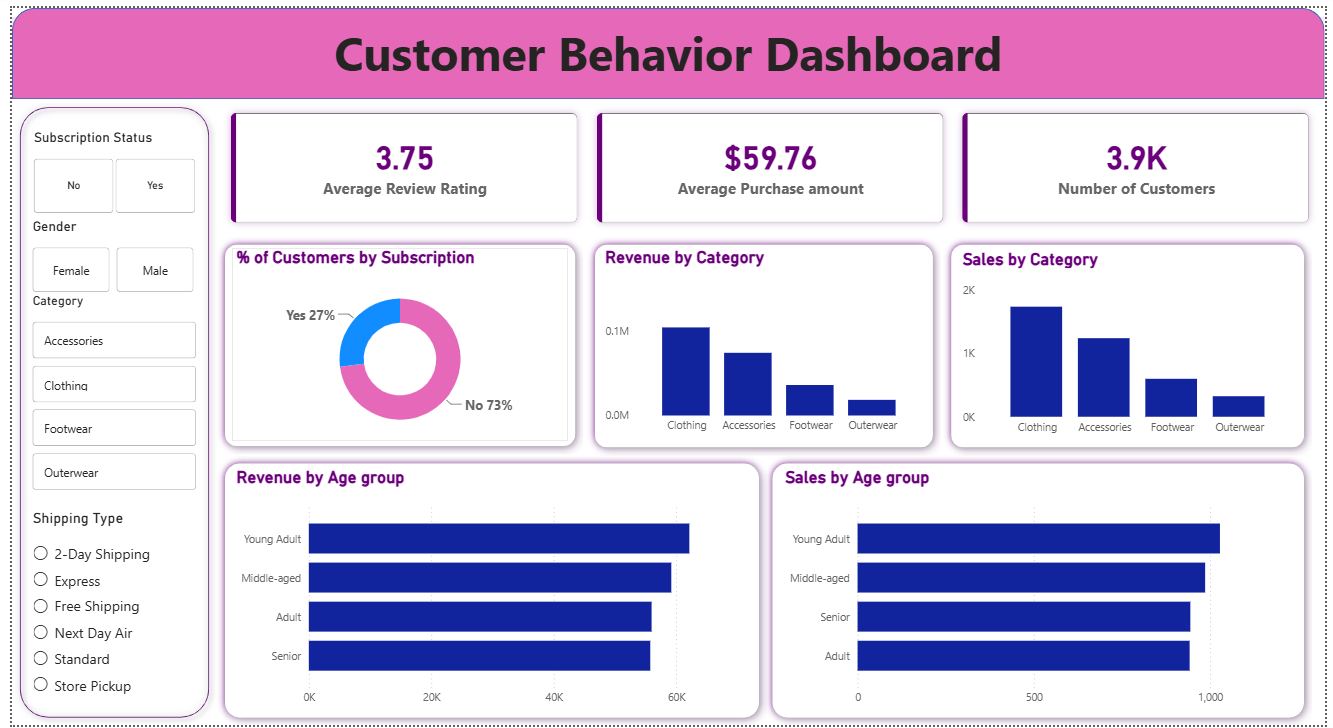

This screenshot's page, from the dashboard's own definition file:
{"tool":"powerbi","page":{"name":"Page 1","canvas":[1500,820],"ordinal":0},"visuals":[{"type":"shape","box":[234.3,261.4,418.6,248.6],"z":0},{"type":"cardVisual","fields":{"Data":["customer_behaviour customer.Average Review Rating","customer_behaviour customer.Average Purchase amount","customer_behaviour customer.Number of Customers"]},"box":[234.3,104.3,1265.7,157.1],"z":1000},{"type":"shape","box":[0,0,1500,104.3],"z":2000},{"type":"textbox","box":[0,10,1500,94.3],"z":3000},{"type":"donutChart","title":"% of Customers by Subscription","fields":{"Category":["customer_behaviour customer.subscription_status"],"Y":["CountNonNull(customer_behaviour customer.customer_id)"]},"box":[251.4,274.3,384.3,221.4],"z":4000},{"type":"shape","box":[1064.3,261.4,421.4,250],"z":5000},{"type":"shape","box":[656.4,261.4,404.3,250],"z":6000},{"type":"clusteredColumnChart","title":"Revenue by Category","fields":{"Y":["Sum(customer_behaviour customer.purchase_amount)"],"Category":["customer_behaviour customer.category"]},"box":[672.9,274.3,372.9,221.4],"z":7000},{"type":"clusteredColumnChart","title":"Sales by Category","fields":{"Category":["customer_behaviour customer.category"],"Y":["CountNonNull(customer_behaviour customer.customer_id)"]},"box":[1081.4,275.7,388.6,221.4],"z":8000},{"type":"shape","box":[0,104.3,234.3,715.7],"z":9000},{"type":"advancedSlicerVisual","title":"Subscription Status","fields":{"Values":["customer_behaviour customer.subscription_status"]},"box":[20,138.6,195.7,101.4],"z":10000},{"type":"advancedSlicerVisual","title":"Gender","fields":{"Values":["customer_behaviour customer.gender"]},"box":[18.6,240,195.7,90],"z":11000},{"type":"advancedSlicerVisual","title":"Category","fields":{"Values":["customer_behaviour customer.category"]},"box":[18.6,325.7,197.1,232.9],"z":12000},{"type":"listSlicer","title":"Shipping Type","fields":{"Values":["customer_behaviour customer.shipping_type"]},"box":[18.6,572.9,160,224.3],"z":13000},{"type":"shape","box":[234.3,511.4,628.6,308.6],"z":14000},{"type":"shape","box":[860,511.4,625.7,308.6],"z":15000},{"type":"clusteredBarChart","title":"Revenue by Age group","fields":{"Y":["Sum(customer_behaviour customer.purchase_amount)"],"Category":["customer_behaviour customer.age_group"]},"box":[251.4,525.7,592.9,280],"z":16000},{"type":"clusteredBarChart","title":"Sales by Age group","fields":{"Category":["customer_behaviour customer.age_group"],"Y":["CountNonNull(customer_behaviour customer.customer_id)"]},"box":[878.6,525.7,591.4,280],"z":17000}]}

Visuals, with their boxes in screenshot pixels (x1, y1, x2, y2), scaled from the page's 1500x820 canvas onto the 1333x728 screenshot:
shape: BBox(208, 232, 580, 453)
cardVisual - customer_behaviour customer.Average Review Rating x customer_behaviour customer.Average Purchase amount: BBox(208, 93, 1332, 232)
shape: BBox(0, 0, 1332, 93)
textbox: BBox(0, 9, 1332, 93)
"% of Customers by Subscription" donutChart: BBox(223, 244, 565, 440)
shape: BBox(946, 232, 1320, 454)
shape: BBox(583, 232, 943, 454)
"Revenue by Category" clusteredColumnChart: BBox(598, 244, 929, 440)
"Sales by Category" clusteredColumnChart: BBox(961, 245, 1306, 441)
shape: BBox(0, 93, 208, 727)
"Subscription Status" advancedSlicerVisual: BBox(18, 123, 192, 213)
"Gender" advancedSlicerVisual: BBox(17, 213, 190, 293)
"Category" advancedSlicerVisual: BBox(17, 289, 192, 496)
"Shipping Type" listSlicer: BBox(17, 509, 159, 708)
shape: BBox(208, 454, 767, 727)
shape: BBox(764, 454, 1320, 727)
"Revenue by Age group" clusteredBarChart: BBox(223, 467, 750, 715)
"Sales by Age group" clusteredBarChart: BBox(781, 467, 1306, 715)
